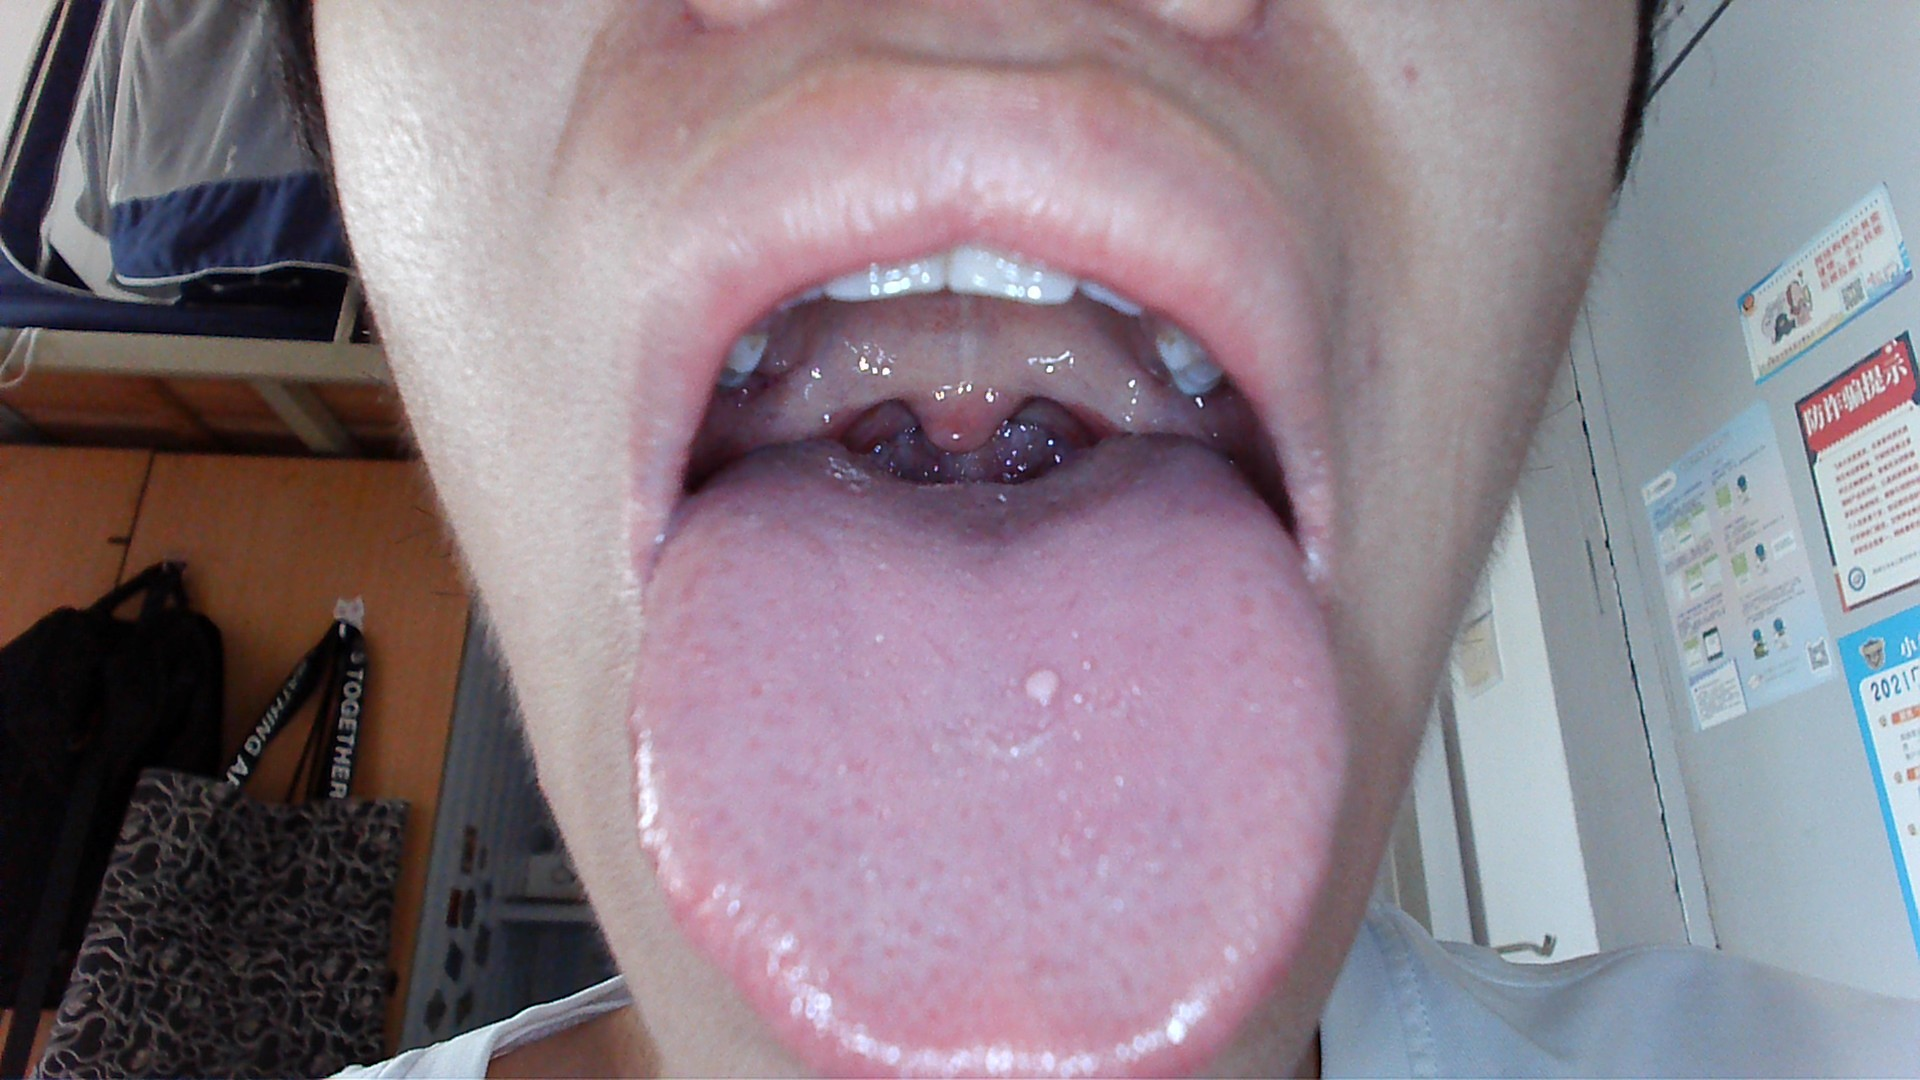throat: (778, 360, 874, 440), (1050, 364, 1142, 444)
